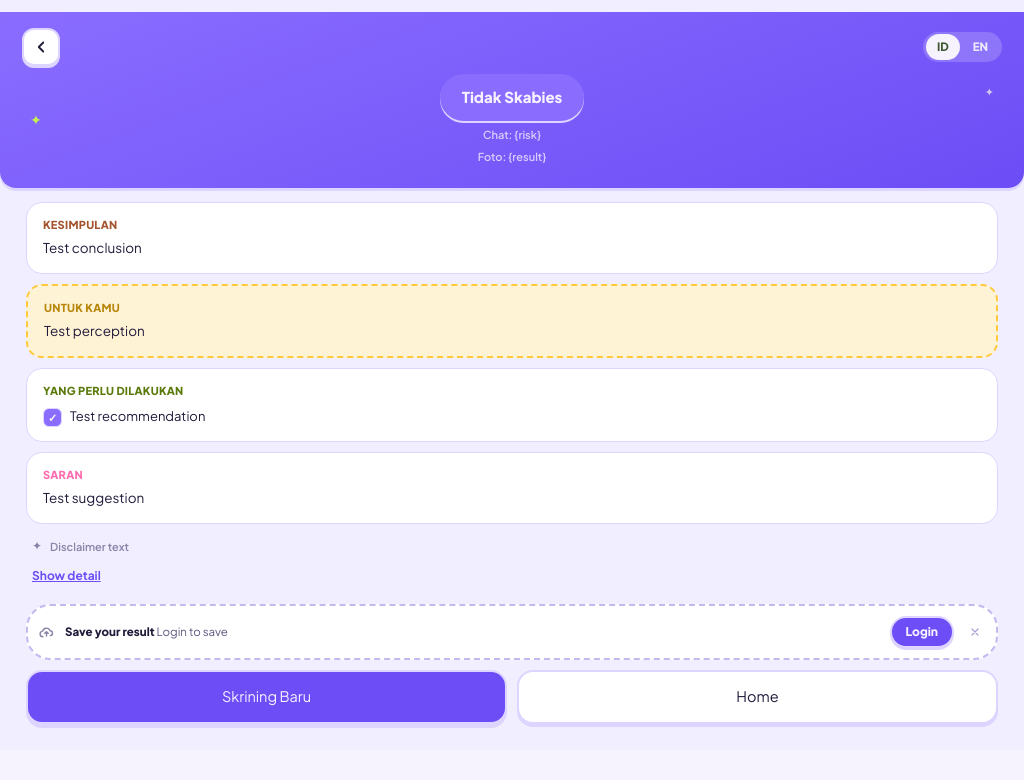
ResultScreen › visual detection card display › renders visual detection card with proper styling for NEGATIVE result
What coordinates should you click on to do the following:
click the button "Show detail"
I would click on:
 (66, 576)
Its box is [26, 568, 107, 584].
(page scrolled)
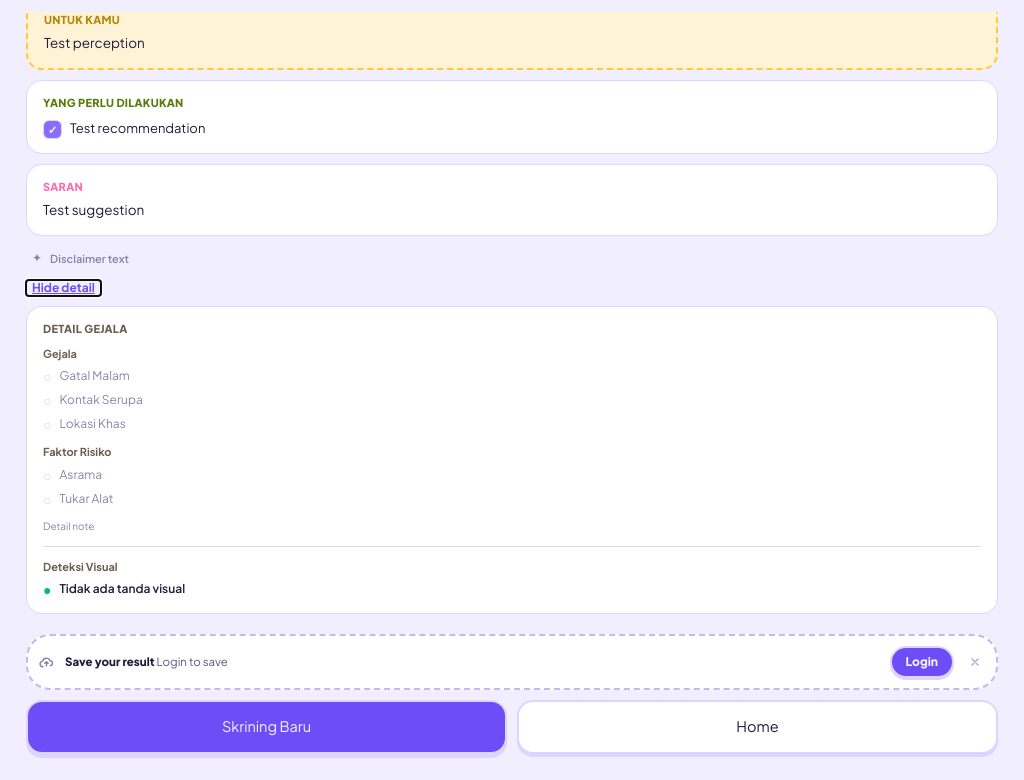
expect the text "Tidak ada tanda visual" is shown: met, box [60, 580, 185, 598]
expect the text "●" is shown: met, box [43, 579, 52, 599]
